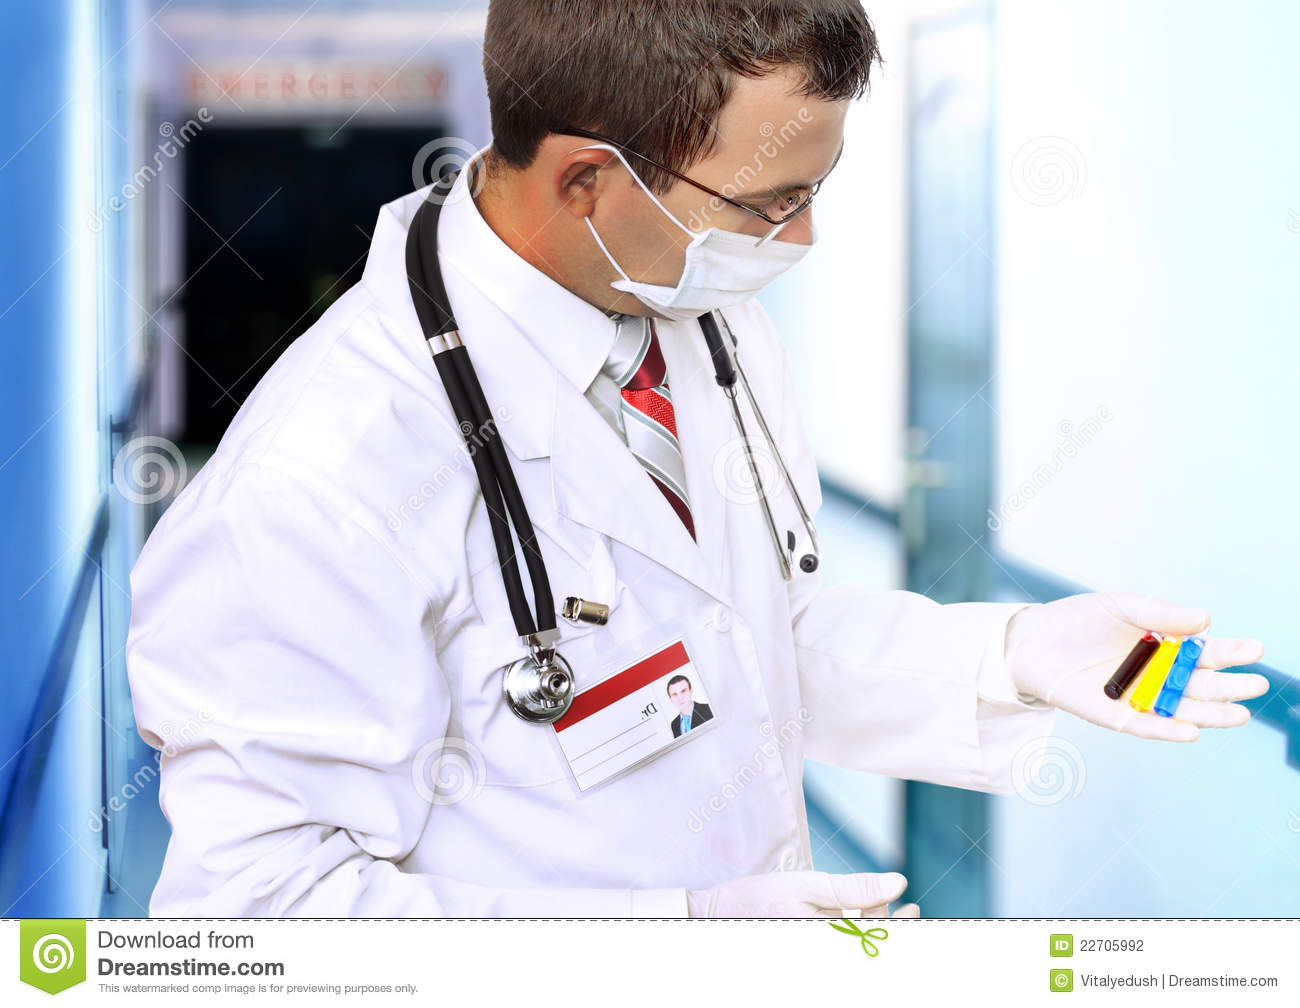mask: (633, 213, 830, 344)
